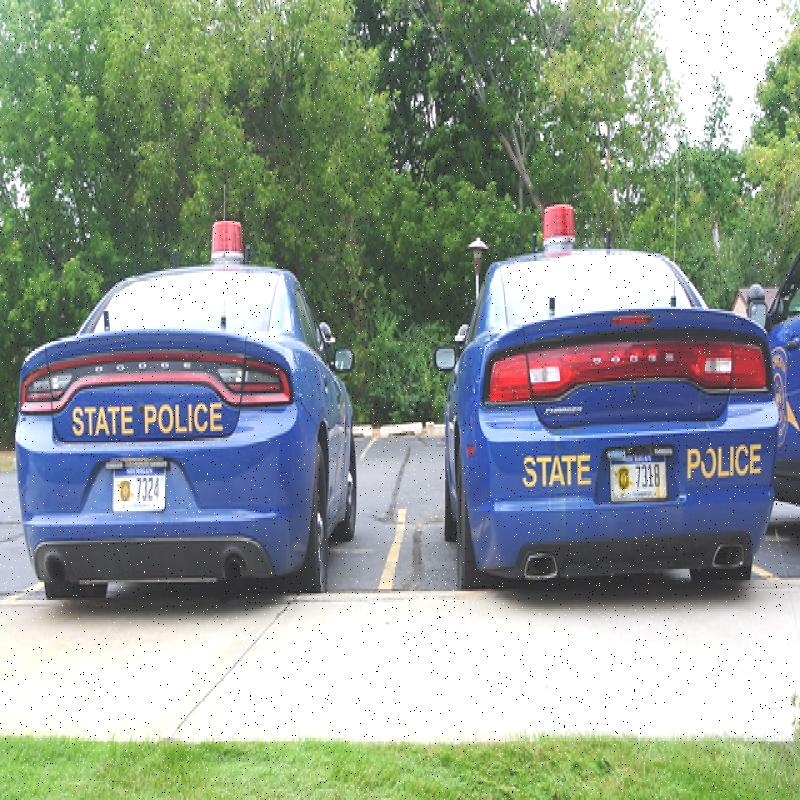AmbulanceSiren: (540, 186, 580, 264), (212, 204, 250, 263)
